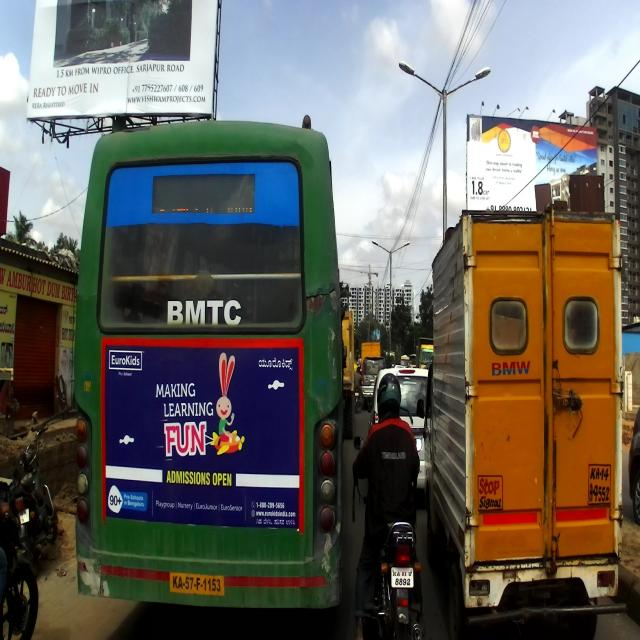Car_Maruti-Suzuki: (371, 368, 431, 491)
bus: (70, 109, 348, 616)
motorcycle_Hero: (351, 436, 426, 637)
motorcycle_TVS: (15, 419, 59, 563)
truck: (428, 203, 626, 639)
